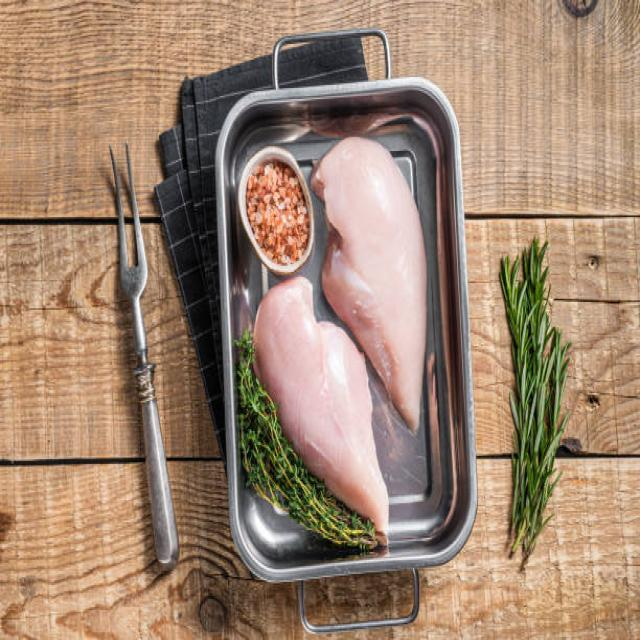Chicken: (332, 115, 441, 363), (264, 323, 353, 537)
